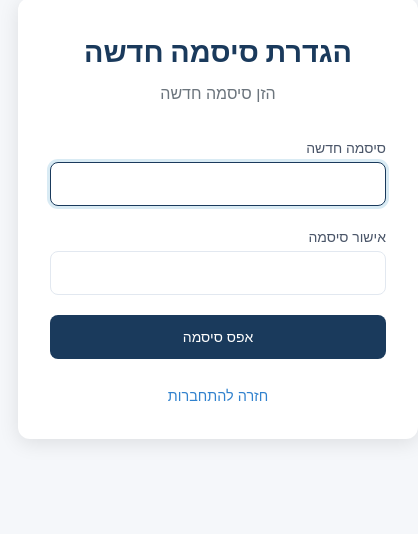
Test: ResetPassword Page › should show error from API on failure
In the password field labelled "סיסמה חדשה": (218, 184) top-left (50, 162), bottom-right (386, 206), type "newpass123"
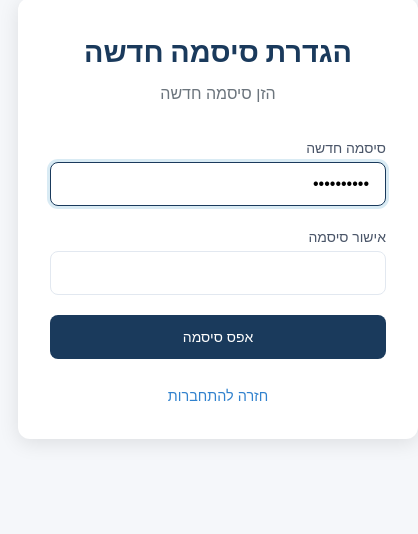
In the password field labelled "אישור סיסמה": (218, 273) top-left (50, 251), bottom-right (386, 295), type "newpass123"
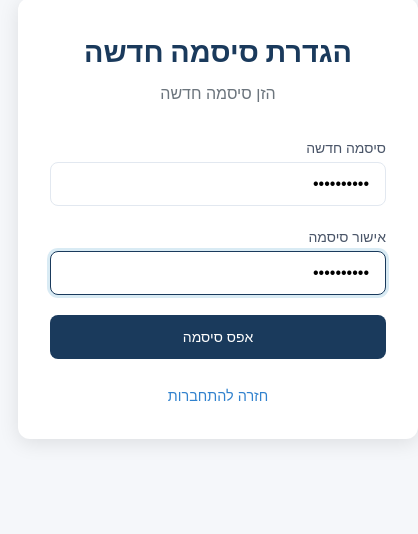
Click the button "אפס סיסמה": (218, 337) top-left (50, 315), bottom-right (386, 359)
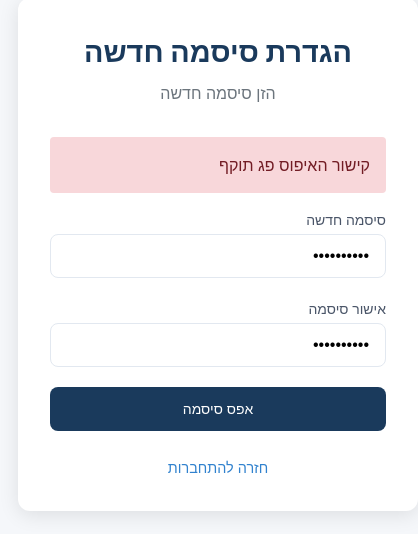
Expected: the text "קישור האיפוס פג תוקף" is shown, top-left (50, 137), bottom-right (386, 193)
